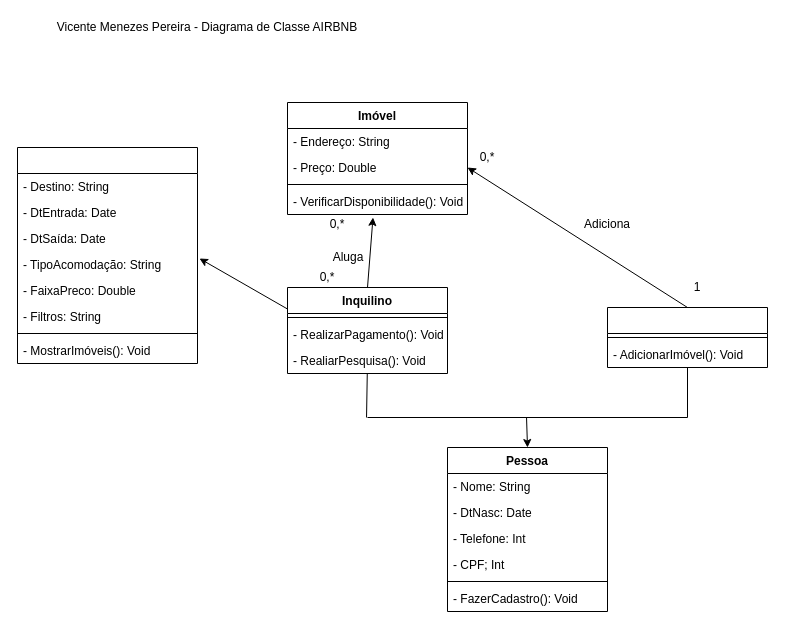
The diagram is 785 pixels wide and 631 high, and some of its shapes have lost their labels. Each missing label, with the box of its shape:
Anfitrião: (606, 306, 768, 368)
Pesquisa: (16, 146, 198, 364)
